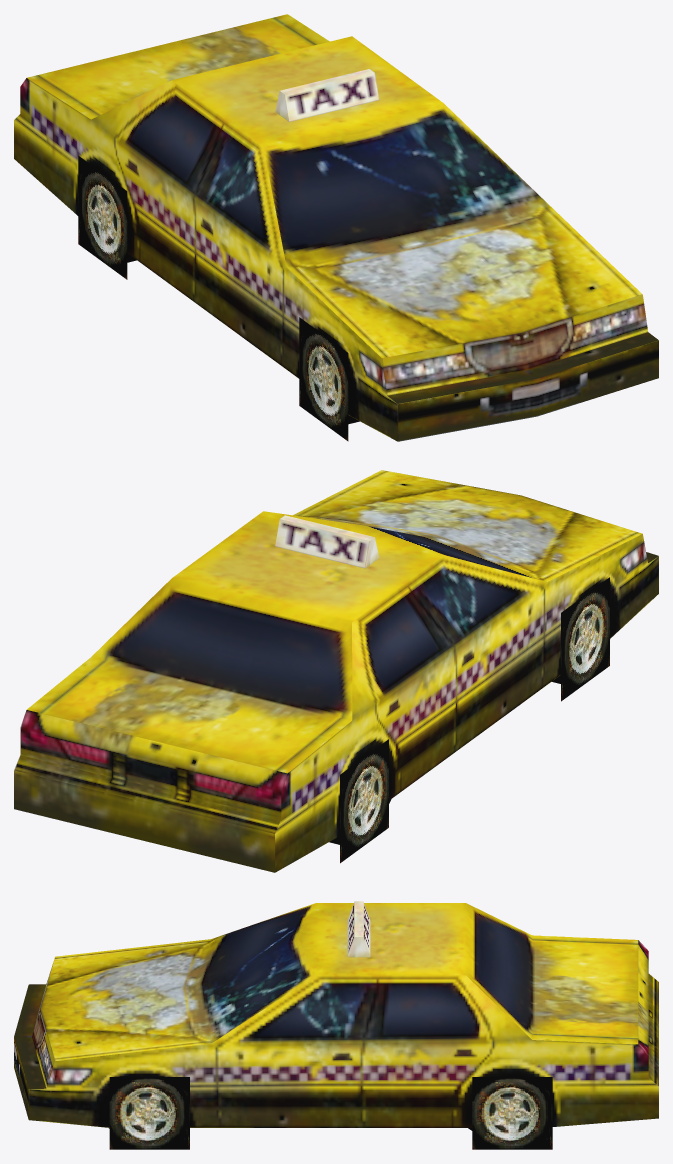
File: taxi.glb
3 views of the same model, one above another, from view 1: azimuth 30°, elevation 25°; view 2: azimuth 150°, elevation 25°; view 3: azimuth 270°, elevation 25° (orthographic). The views are drawn at different scales.
Visible parts, largest first — view 1: TaxiMAIN_NULL_10004, TaxiMAIN_NULL_10002, TaxiMAIN_NULL_10000; view 2: TaxiMAIN_NULL_10004, TaxiMAIN_NULL_10002, TaxiMAIN_NULL_10000; view 3: TaxiMAIN_NULL_10004, TaxiMAIN_NULL_10003, TaxiMAIN_NULL_10001.
Boxes of the visible parts, box(x1,y1,x2,y2) form: TaxiMAIN_NULL_10004: box(14, 14, 658, 441); TaxiMAIN_NULL_10002: box(78, 155, 127, 279); TaxiMAIN_NULL_10000: box(299, 317, 348, 441); TaxiMAIN_NULL_10004: box(14, 470, 658, 872); TaxiMAIN_NULL_10002: box(340, 739, 388, 863); TaxiMAIN_NULL_10000: box(561, 577, 609, 701); TaxiMAIN_NULL_10004: box(14, 901, 658, 1130); TaxiMAIN_NULL_10003: box(109, 1077, 189, 1149); TaxiMAIN_NULL_10001: box(472, 1077, 552, 1149).
Bounding box in the file's own units: 0.0195 × 0.0155 × 0.0508.
Materials: 2 (2 with a texture image).
